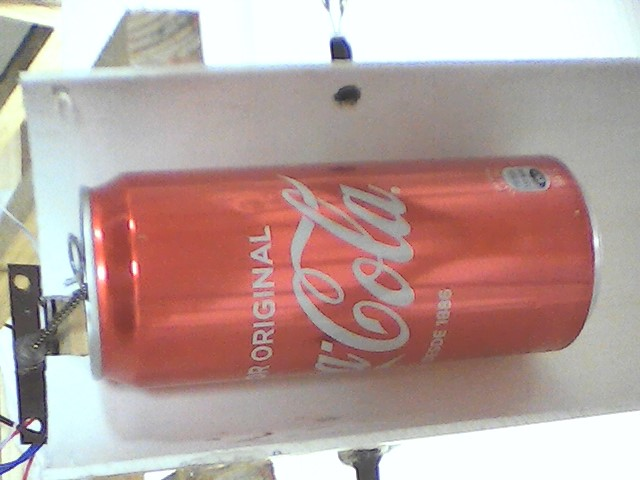lata: (67, 151, 611, 397)
